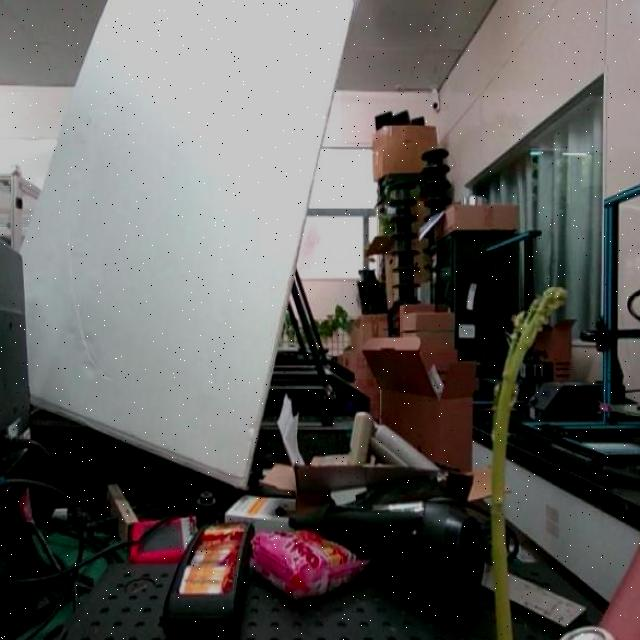aspargus: (488, 286, 568, 640)
